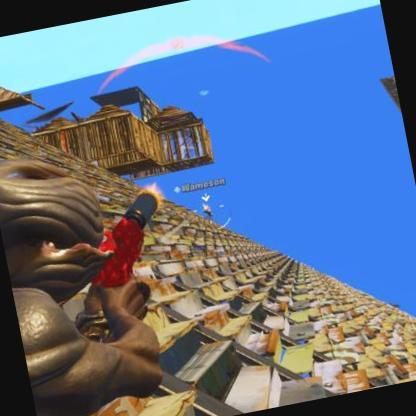person: (204, 201, 212, 219)
